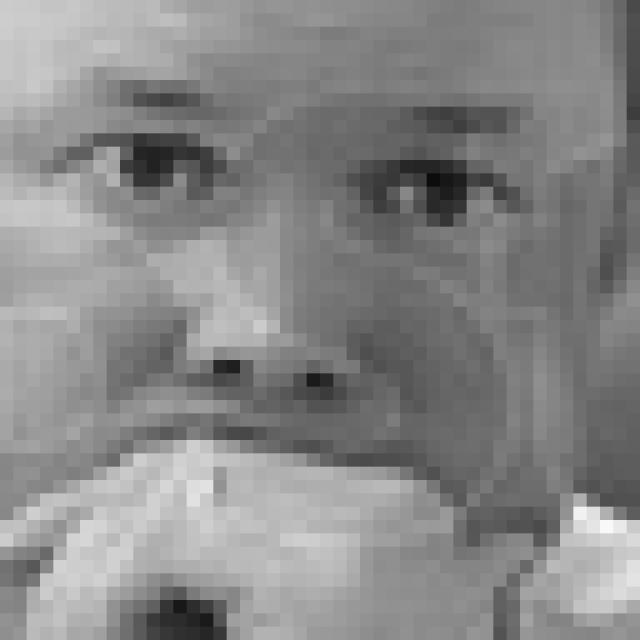fear: (28, 75, 547, 559)
